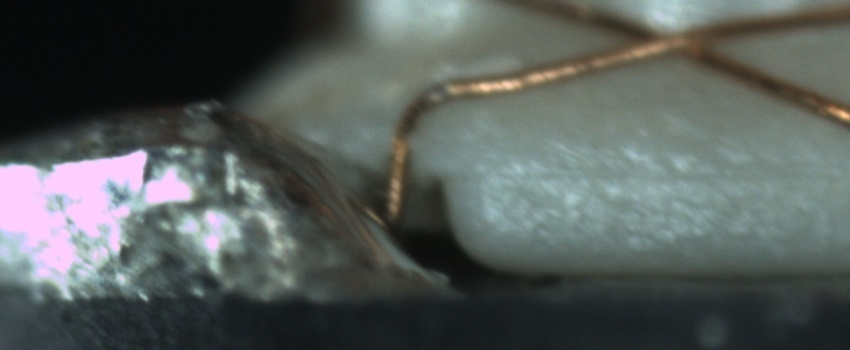CL: (607, 8, 735, 65)
DL: (469, 148, 849, 203)
